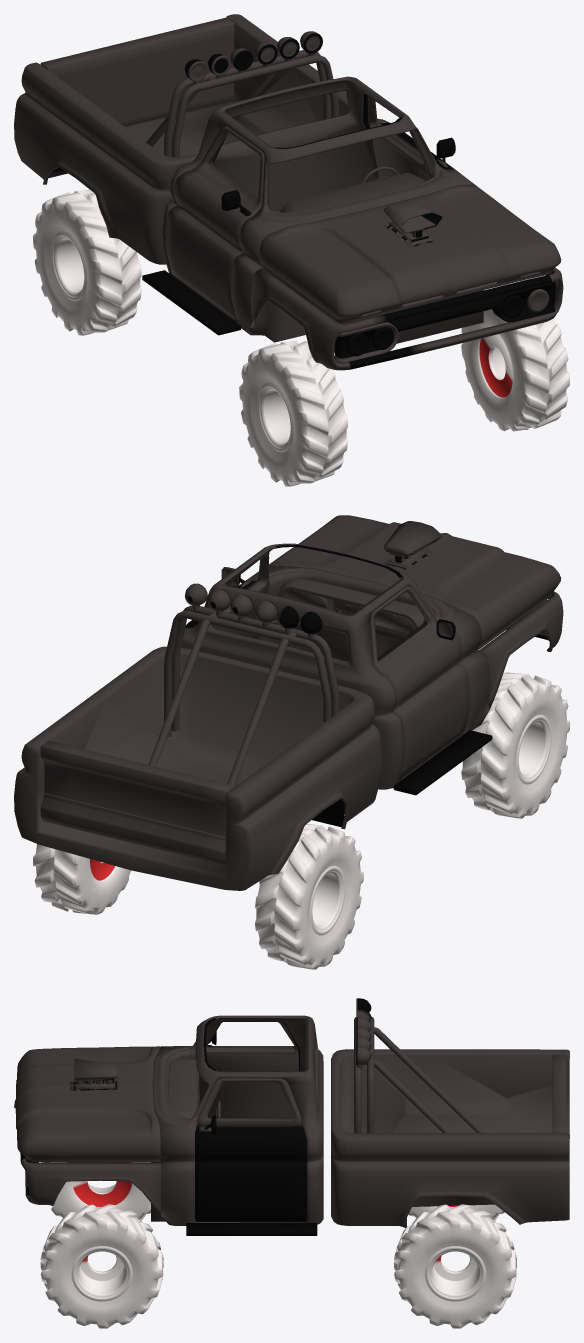
The model's file is Truck Small.fbx.
3 renders of one model, top to bottom at view 1: azimuth 30°, elevation 25°; view 2: azimuth 150°, elevation 25°; view 3: azimuth 270°, elevation 25°, orthographic. The views are drawn at different scales.
Parts seen in each view (by area): view 1: Truck small, Wheel FR, Wheel RR, Wheel FL; view 2: Truck small, Wheel RR, Wheel FR, Wheel RL; view 3: Truck small, Wheel FL, Wheel RL, Wheel FR, Wheel RR.
Boxes of the visible parts, x1,y1,x2,y2 form: Truck small: [14, 14, 563, 370]; Wheel FR: [239, 340, 347, 486]; Wheel RR: [33, 189, 141, 335]; Wheel FL: [461, 309, 569, 431]; Truck small: [14, 515, 563, 890]; Wheel RR: [255, 824, 363, 969]; Wheel FR: [461, 672, 569, 818]; Wheel RL: [33, 844, 130, 914]; Truck small: [14, 998, 569, 1235]; Wheel FL: [40, 1204, 163, 1328]; Wheel RL: [394, 1204, 516, 1328]; Wheel FR: [41, 1162, 150, 1220]; Wheel RR: [408, 1204, 504, 1220].
Bounding box in the file's own units: 2.78 × 5.71 × 2.86.
